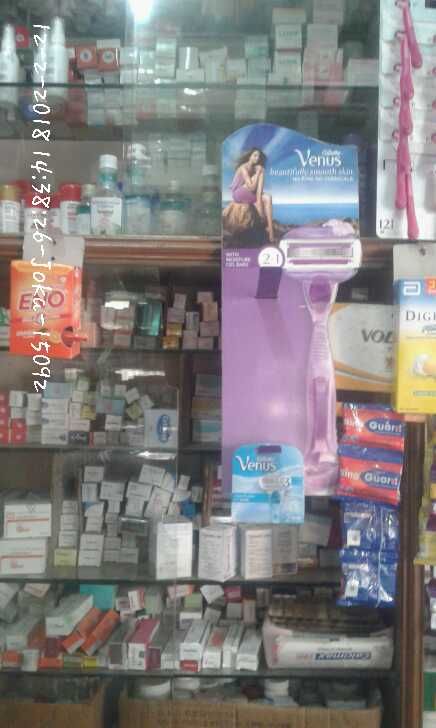venus: (226, 440, 307, 530)
